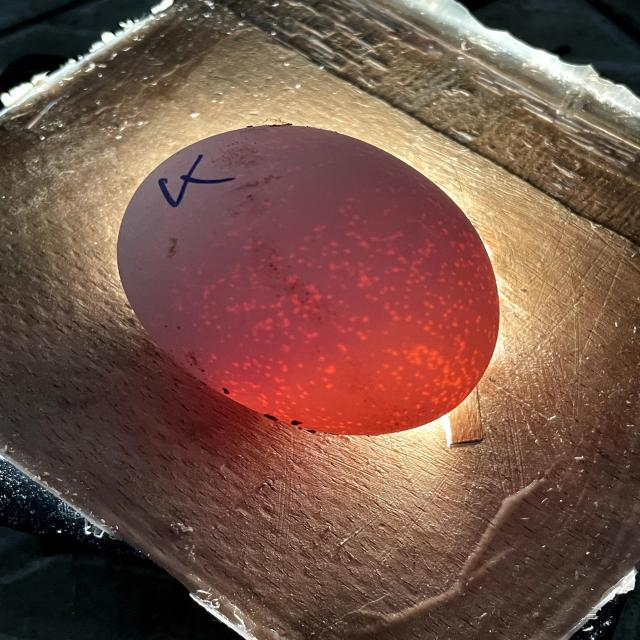fertile: (117, 125, 498, 435)
